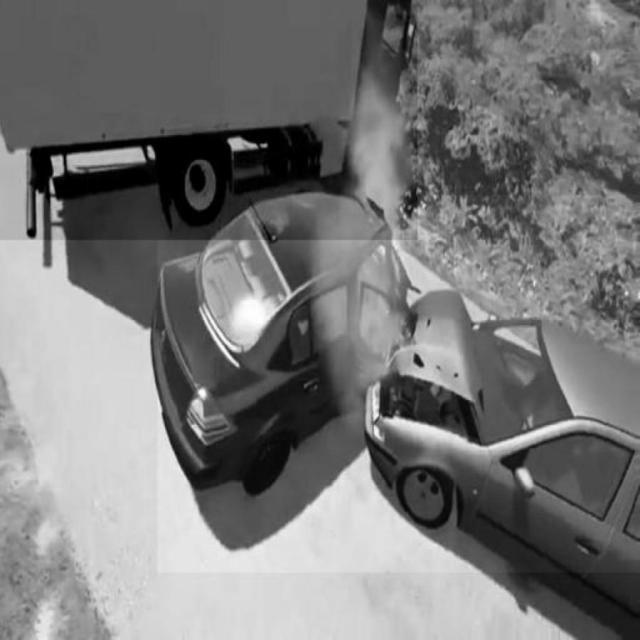accident: (158, 196, 640, 573), (0, 0, 418, 240)
